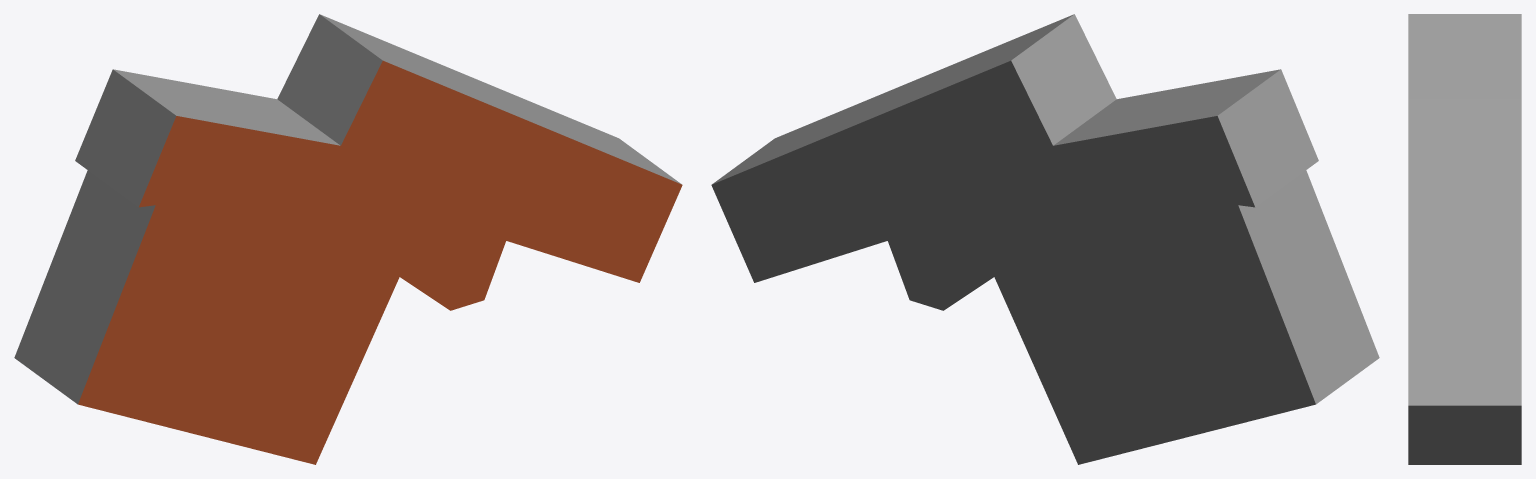
The model's file is construction_2865_assumed_A_Casa_h6m.obj.
The picture shows the model from 3 angles, left to right: view 1: azimuth 30°, elevation 25°; view 2: azimuth 150°, elevation 25°; view 3: azimuth 270°, elevation 25°; orthographic projection. The views are drawn at different scales.
Parts seen in each view (by area): view 1: construction_2865_assumed_A_Casa; view 2: construction_2865_assumed_A_Casa; view 3: construction_2865_assumed_A_Casa.
Boxes of the visible parts, x1,y1,x2,y2 form: construction_2865_assumed_A_Casa: (14, 14, 682, 464); construction_2865_assumed_A_Casa: (711, 14, 1379, 464); construction_2865_assumed_A_Casa: (1408, 14, 1521, 464).
Bounding box in the file's own units: 32.93 × 20.19 × 6.
